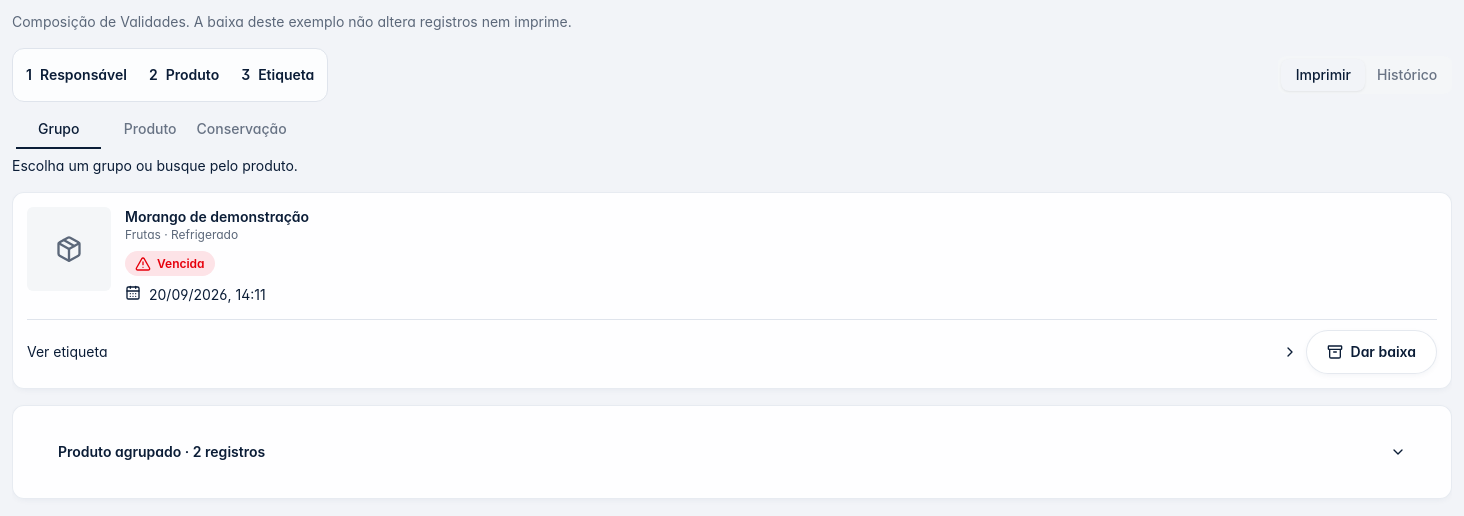
a demonstração de Validades dá baixa direta na única etiqueta sintética
Click the button "Dar baixa" at point(1371, 352), box left=1306, top=330, right=1437, bottom=374
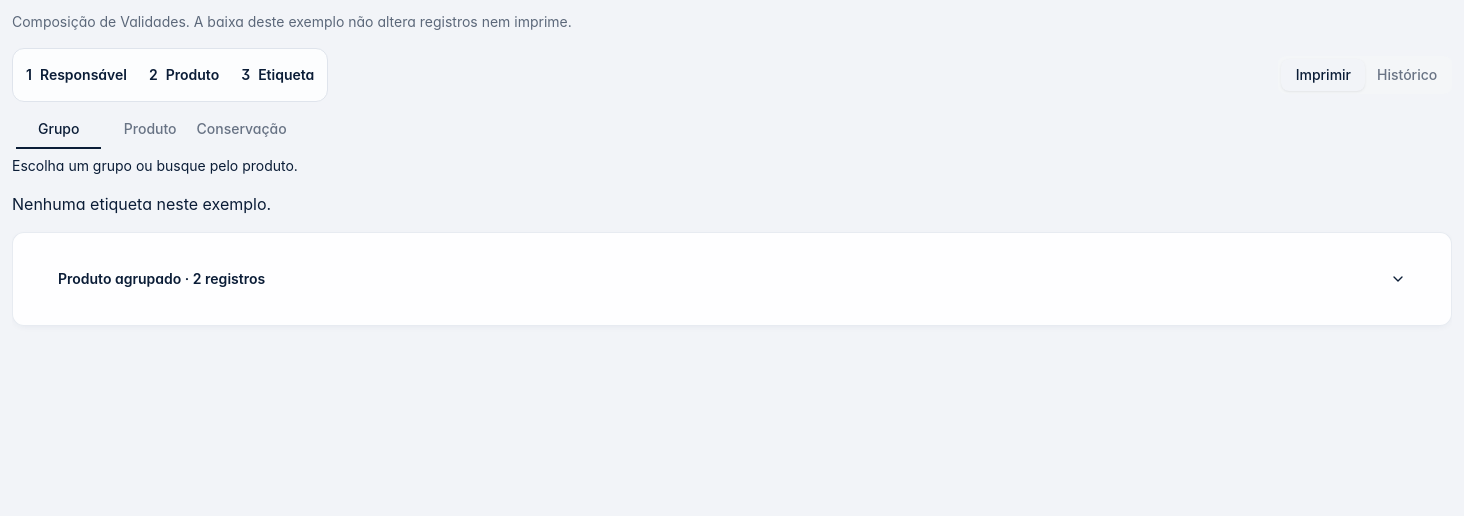
Check: the message reads "Nenhuma etiqueta neste exemplo.", box left=12, top=194, right=271, bottom=214
